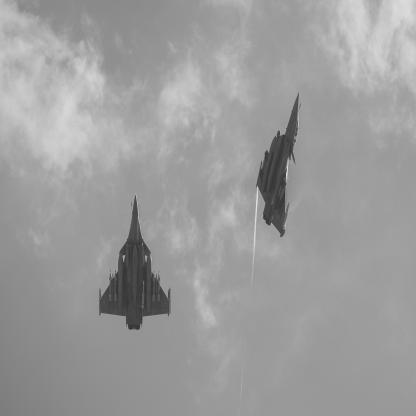Rafale: (100, 194, 172, 331), (257, 93, 302, 238)
